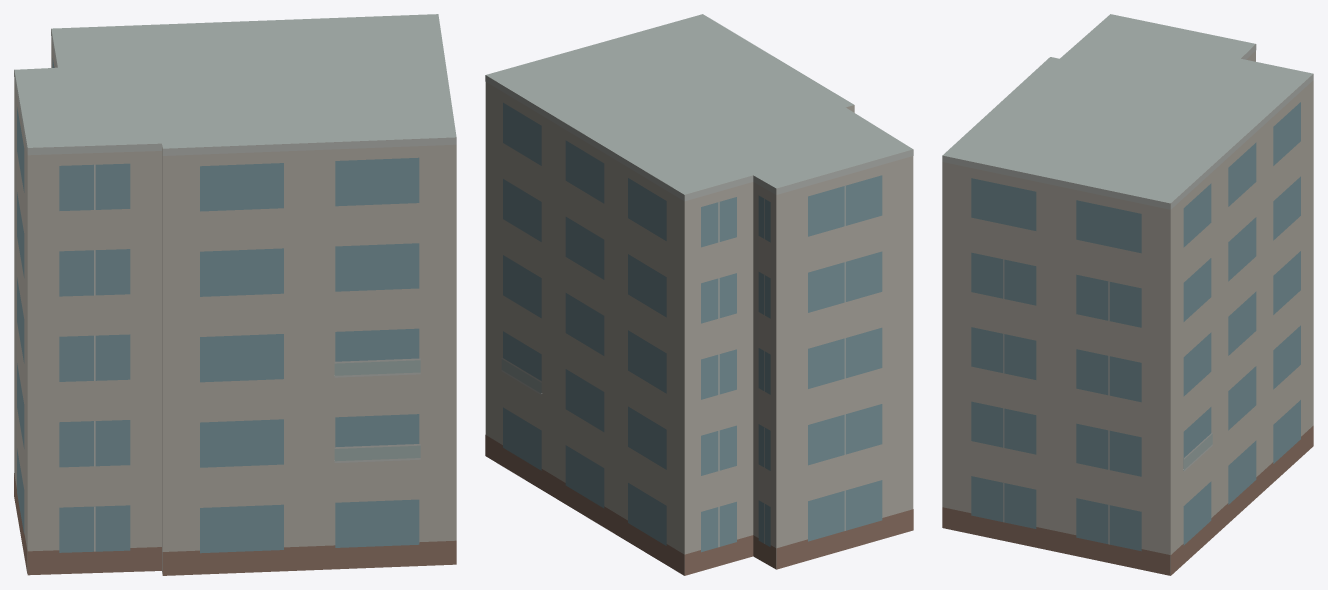
Rendered from survey-upis-32666314.glb.
3 renders of one model, left to right at view 1: azimuth 30°, elevation 25°; view 2: azimuth 150°, elevation 25°; view 3: azimuth 270°, elevation 25°, orthographic. The views are drawn at different scales.
Parts seen in each view (by area): view 1: survey-upis-32666314.tmp; view 2: survey-upis-32666314.tmp; view 3: survey-upis-32666314.tmp.
Boxes of the visible parts, x1,y1,x2,y2 form: survey-upis-32666314.tmp: [14, 14, 456, 575]; survey-upis-32666314.tmp: [485, 14, 913, 575]; survey-upis-32666314.tmp: [942, 14, 1313, 575].
Bounding box in the file's own units: 15.61 × 14.3 × 12.93.
